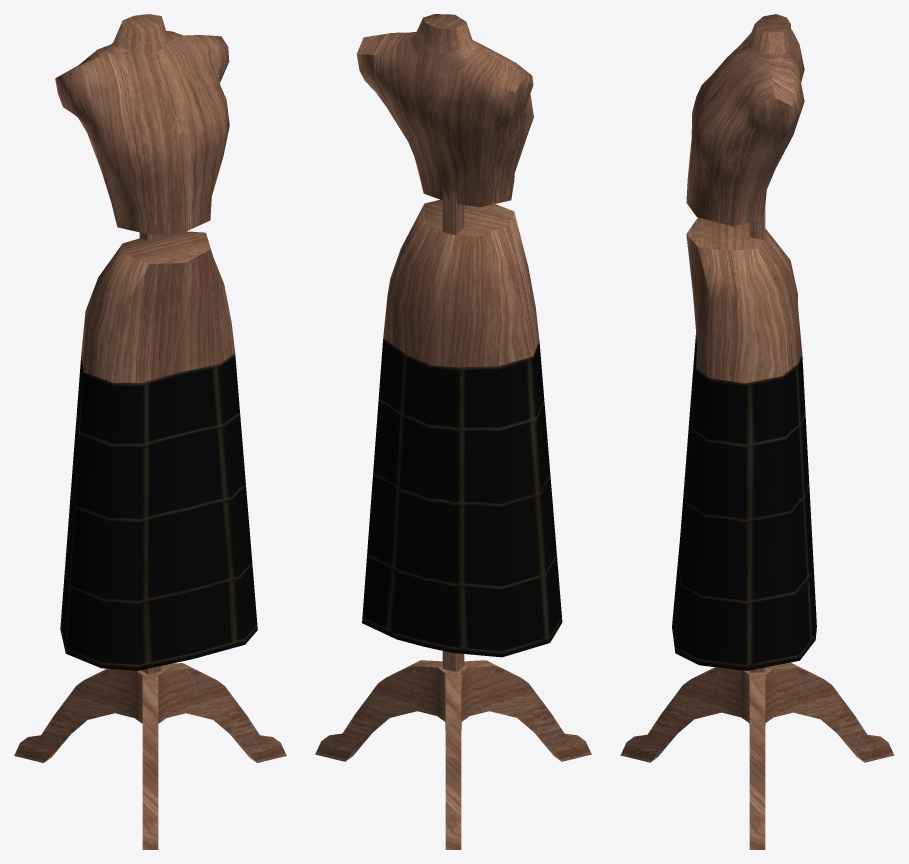
Rendered from shop_tailor_mannequinFemaleNaked.fbx.
3 renders of one model, left to right at view 1: azimuth 30°, elevation 25°; view 2: azimuth 150°, elevation 25°; view 3: azimuth 270°, elevation 25°, orthographic.
Visible parts, largest first — view 1: dummy_skirt, dummy_torso, coatRack_feet; view 2: dummy_skirt, dummy_torso, coatRack_feet, coatRack_pole; view 3: dummy_skirt, dummy_torso, coatRack_feet.
Part boxes in pixels (x1,y1,x2,y2): dummy_skirt: [60, 353, 257, 670]; dummy_torso: [55, 14, 234, 382]; coatRack_feet: [14, 663, 286, 849]; dummy_skirt: [362, 338, 562, 657]; dummy_torso: [356, 14, 539, 367]; coatRack_feet: [315, 660, 591, 849]; coatRack_pole: [442, 187, 464, 671]; dummy_skirt: [672, 333, 816, 670]; dummy_torso: [686, 14, 804, 383]; coatRack_feet: [620, 662, 894, 849].
Size of the model in its own units: 150 by 488 by 159.
2 materials, 2 textured.
